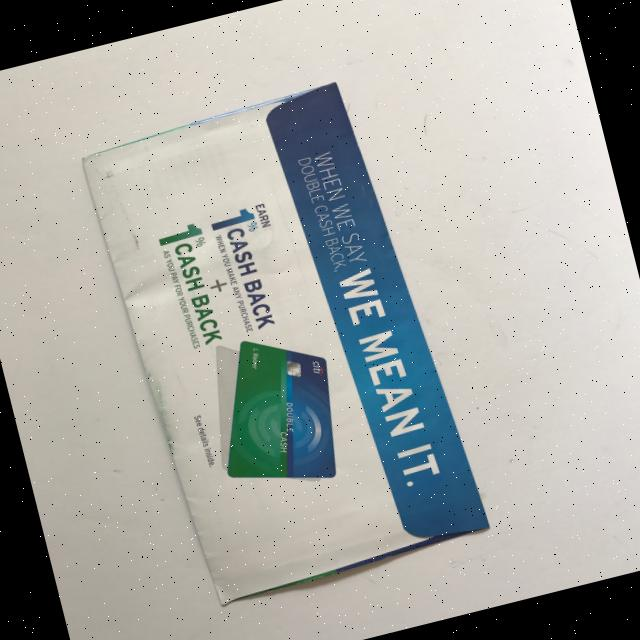paper: (77, 70, 492, 612)
